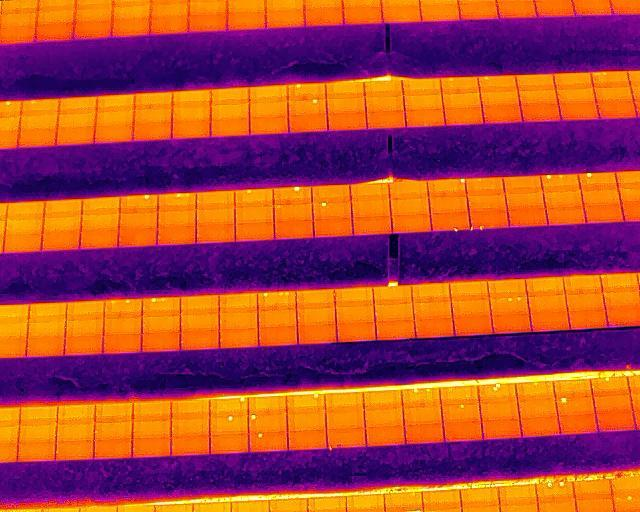Cell: (249, 431, 288, 452), (427, 178, 466, 197), (555, 396, 596, 414), (431, 212, 469, 231), (274, 185, 312, 204), (248, 413, 287, 431), (210, 397, 249, 415), (209, 415, 247, 433), (235, 188, 273, 206), (593, 377, 629, 396), (313, 201, 351, 219), (478, 75, 516, 92), (442, 404, 480, 421), (22, 99, 60, 116), (121, 193, 158, 210), (440, 76, 479, 92), (288, 99, 326, 115), (578, 172, 616, 188), (287, 395, 325, 411), (288, 84, 326, 99)
Cell-Multi: (142, 297, 181, 316), (490, 296, 528, 315), (537, 482, 573, 502), (258, 291, 296, 309), (402, 389, 440, 407), (590, 70, 630, 87), (105, 299, 142, 317), (470, 211, 507, 229), (541, 173, 578, 191), (478, 384, 516, 401), (157, 194, 195, 210)
No-Anomaly: (366, 425, 405, 447), (297, 323, 336, 345), (327, 428, 366, 449), (210, 432, 249, 453), (235, 221, 274, 242), (325, 409, 365, 429), (288, 410, 326, 431), (181, 330, 219, 351), (142, 332, 180, 353), (18, 442, 56, 463), (94, 439, 132, 460), (443, 421, 482, 441), (337, 322, 376, 342), (56, 440, 95, 460), (600, 272, 639, 292), (596, 413, 636, 432), (171, 416, 209, 436), (259, 326, 297, 346), (573, 481, 611, 501), (219, 292, 257, 312), (507, 209, 547, 228), (304, 6, 342, 26), (266, 7, 304, 27), (461, 488, 499, 508), (44, 198, 82, 218), (6, 201, 44, 221), (289, 114, 327, 134), (593, 395, 633, 414), (518, 398, 556, 418), (570, 309, 606, 330), (558, 414, 597, 433), (453, 317, 492, 336), (220, 329, 259, 348), (530, 313, 569, 332), (526, 277, 565, 296), (196, 224, 235, 243), (353, 216, 392, 235), (392, 214, 431, 233), (81, 213, 120, 232), (196, 190, 235, 209), (390, 196, 429, 215), (406, 423, 443, 443), (492, 314, 529, 334), (67, 300, 104, 320), (0, 5, 37, 25), (498, 485, 535, 505), (423, 491, 460, 511), (514, 74, 555, 92), (458, 0, 499, 18), (419, 3, 460, 21), (479, 401, 520, 419), (288, 430, 326, 449), (171, 435, 209, 454), (133, 438, 171, 457), (18, 423, 56, 442), (133, 420, 171, 439), (94, 420, 132, 439), (19, 406, 57, 425), (365, 407, 403, 426), (415, 319, 453, 338), (376, 321, 414, 340), (104, 316, 142, 335), (414, 300, 452, 319), (119, 227, 157, 246), (157, 226, 195, 245), (27, 337, 65, 356), (104, 334, 142, 353), (350, 182, 388, 201), (133, 401, 171, 420), (336, 304, 376, 322), (496, 0, 536, 18), (483, 418, 520, 437), (386, 492, 423, 511), (564, 275, 601, 294), (189, 13, 226, 32), (520, 417, 559, 435), (66, 320, 105, 338), (80, 231, 119, 249), (450, 282, 489, 300), (42, 217, 81, 235), (314, 218, 353, 236), (35, 22, 74, 40), (343, 6, 382, 24), (597, 100, 636, 118), (430, 196, 469, 214), (366, 112, 405, 130), (381, 5, 422, 22), (521, 105, 562, 122), (606, 307, 639, 328), (28, 320, 66, 338), (258, 309, 296, 327), (219, 311, 257, 329), (142, 315, 180, 333), (180, 295, 218, 313), (151, 16, 189, 34), (375, 303, 413, 321), (335, 287, 373, 305), (529, 295, 567, 313), (4, 235, 42, 253), (112, 18, 150, 36), (73, 20, 111, 38), (227, 10, 265, 28), (36, 5, 74, 23), (65, 337, 103, 355), (352, 199, 390, 217), (506, 191, 544, 209), (482, 105, 520, 123), (173, 121, 211, 139), (581, 188, 619, 206), (312, 184, 350, 202), (250, 118, 288, 136), (211, 120, 249, 138), (327, 113, 365, 131), (560, 103, 598, 121), (249, 395, 287, 413), (364, 390, 402, 408), (365, 95, 405, 112), (58, 405, 95, 423), (404, 407, 441, 425), (30, 303, 67, 321), (603, 291, 640, 309), (412, 284, 449, 302), (120, 209, 157, 227), (544, 190, 581, 208), (468, 194, 505, 212), (95, 403, 132, 421), (180, 313, 219, 330), (297, 306, 336, 323), (296, 289, 335, 306), (374, 286, 413, 303), (593, 85, 632, 102), (112, 1, 151, 18), (518, 89, 557, 106), (59, 96, 98, 113), (19, 130, 58, 147), (20, 113, 59, 130), (405, 109, 444, 126), (548, 208, 584, 226), (585, 205, 621, 223), (57, 423, 95, 440), (452, 300, 490, 317), (566, 293, 604, 310), (275, 219, 313, 236), (172, 400, 210, 417), (442, 92, 480, 109), (250, 101, 288, 118), (158, 209, 196, 226), (82, 197, 120, 214), (445, 108, 483, 125), (326, 393, 364, 410), (533, 0, 576, 15), (347, 495, 384, 512), (489, 280, 526, 297), (0, 24, 37, 41), (75, 3, 112, 20), (98, 94, 135, 111), (554, 379, 591, 396), (58, 128, 95, 145), (402, 78, 441, 94), (150, 0, 189, 16), (326, 98, 365, 114), (57, 112, 96, 128), (96, 110, 135, 126), (440, 388, 479, 404), (572, 0, 613, 15), (467, 176, 503, 193), (42, 235, 80, 251), (211, 87, 249, 103), (326, 82, 364, 98), (250, 85, 288, 101), (554, 73, 592, 89), (405, 94, 443, 110), (235, 206, 273, 222), (389, 182, 427, 198), (134, 123, 172, 139), (503, 176, 541, 192), (95, 126, 133, 142), (211, 103, 249, 119), (173, 91, 210, 107), (136, 92, 173, 108), (5, 221, 44, 236), (516, 384, 555, 399), (196, 209, 235, 224), (557, 88, 593, 104), (173, 107, 211, 122), (363, 82, 403, 96), (135, 108, 172, 123), (481, 92, 520, 106), (274, 205, 313, 219)
